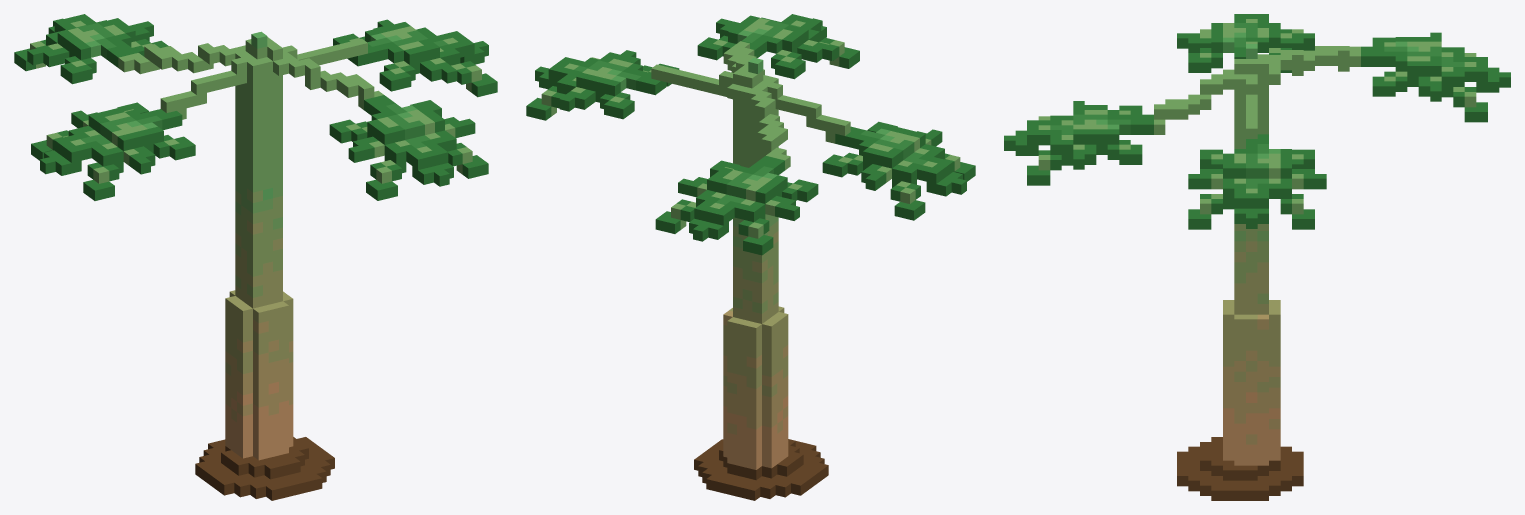
Rendered from 2_3 mamao.obj.
3 renders of one model, left to right at view 1: azimuth 30°, elevation 25°; view 2: azimuth 150°, elevation 25°; view 3: azimuth 270°, elevation 25°, orthographic. The views are drawn at different scales.
Bounding box in the file's own units: 4.4 × 4.1 × 4.4.
Materials: 1 (1 with a texture image).
